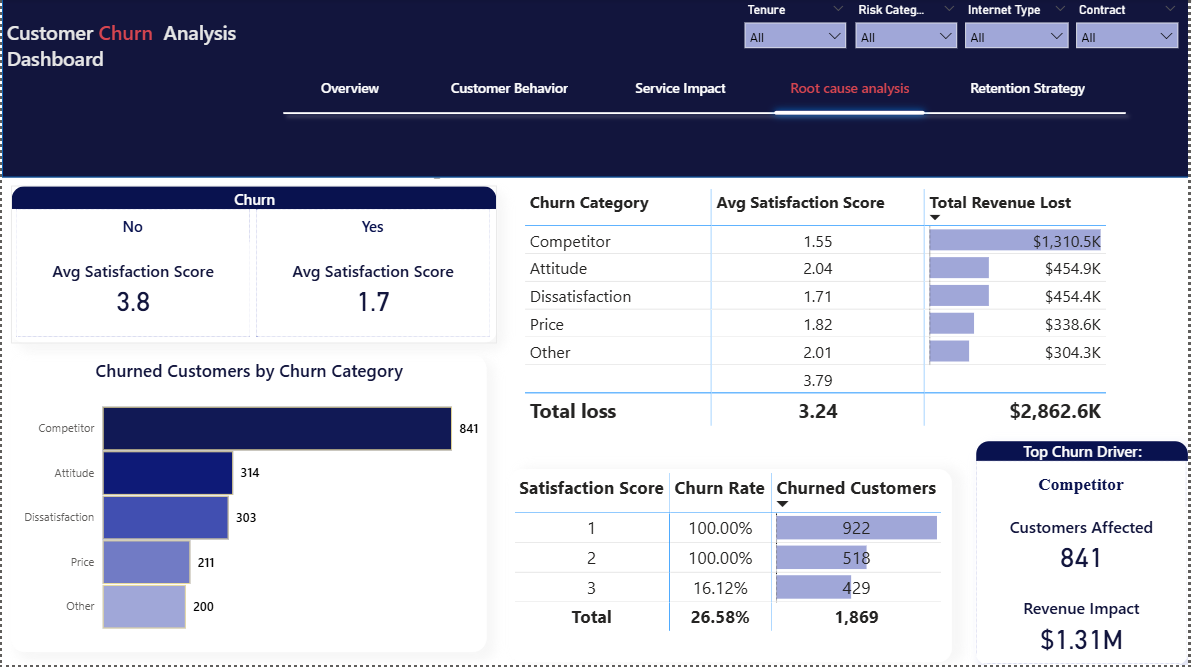

Layout of this report page (visuals, bound fields, positions):
{"tool":"powerbi","page":{"name":"Root cause Analysis","canvas":[1280,720],"ordinal":3},"visuals":[{"type":"barChart","fields":{"Category":["Churn_master.Churn Category"],"Y":["Measure.Churned Customers"]},"box":[9.7,385.4,513.3,320.6],"z":0},{"type":"cardVisual","title":"Churn","fields":{"Data":["Measure.Avg Satisfaction Score"],"Rows":["Churn_master.churn"]},"box":[10.3,201.9,524.6,170],"z":1000},{"type":"tableEx","fields":{"Values":["Churn_master.Churn Category","Measure.Avg Satisfaction Score","Measure.Total Revenue Lost"]},"box":[558.6,202.4,647.7,275.3],"z":2000},{"type":"shape","box":[0,0,1281.2,193.8],"z":3000},{"type":"textbox","box":[0,16.2,312.5,69.6],"z":4000},{"type":"actionButton","box":[326.1,76.3,100.2,39.8],"z":5000},{"type":"actionButton","box":[478,76.3,140,39.8],"z":6000},{"type":"actionButton","box":[669.6,76.3,124.1,39.8],"z":7000},{"type":"actionButton","box":[845.4,76.3,140,39.8],"z":8000},{"type":"actionButton","box":[1037.1,76.3,141.6,39.8],"z":9000},{"type":"shape","box":[294.3,100.2,927.3,47.7],"z":10000},{"type":"shape","box":[825.8,93.9,178.1,59.9],"z":11000},{"type":"cardVisual","title":"Top Churn Driver:","fields":{"Rows":["competitor.Churn Category"],"Data":["competitor.Churned Customers_comp","competitor.Total Revenue Lost comp"]},"box":[1050.9,477.7,229.9,242.9],"z":12000},{"type":"pivotTable","fields":{"Rows":["Churn_master.Satisfaction Score"],"Values":["Measure.Churn Rate","Measure.Churned Customers"]},"box":[547.3,508.4,477.7,208.9],"z":13000},{"type":"slicer","fields":{"Values":["Churn_master.contract"]},"box":[1150,0,130,55],"z":14000},{"type":"slicer","fields":{"Values":["Churn_master.Internet Type"]},"box":[1029.8,0,131.2,55.1],"z":15000},{"type":"slicer","fields":{"Values":["Churn_master.Risk Category"]},"box":[910.8,0,129.5,55.1],"z":16000},{"type":"slicer","fields":{"Values":["Churn_master.tenure_group"]},"box":[791.8,0,129.5,55.1],"z":17000}]}

Visuals, with their boxes in screenshot pixels (x1, y1, x2, y2), scaled from the page's 1280x720 canvas onto the 1192x667 screenshot:
barChart - Churn_master.Churn Category x Measure.Churned Customers: select_region(9, 357, 487, 654)
"Churn" cardVisual: select_region(10, 187, 498, 345)
tableEx - Churn_master.Churn Category x Measure.Avg Satisfaction Score: select_region(520, 188, 1123, 443)
shape: select_region(0, 0, 1191, 180)
textbox: select_region(0, 15, 291, 79)
actionButton: select_region(304, 71, 397, 108)
actionButton: select_region(445, 71, 576, 108)
actionButton: select_region(624, 71, 739, 108)
actionButton: select_region(787, 71, 918, 108)
actionButton: select_region(966, 71, 1098, 108)
shape: select_region(274, 93, 1138, 137)
shape: select_region(769, 87, 935, 142)
"Top Churn Driver:" cardVisual: select_region(979, 443, 1191, 666)
pivotTable - Churn_master.Satisfaction Score x Measure.Churn Rate: select_region(510, 471, 955, 664)
slicer - Churn_master.contract: select_region(1071, 0, 1191, 51)
slicer - Churn_master.Internet Type: select_region(959, 0, 1081, 51)
slicer - Churn_master.Risk Category: select_region(848, 0, 969, 51)
slicer - Churn_master.tenure_group: select_region(737, 0, 858, 51)
